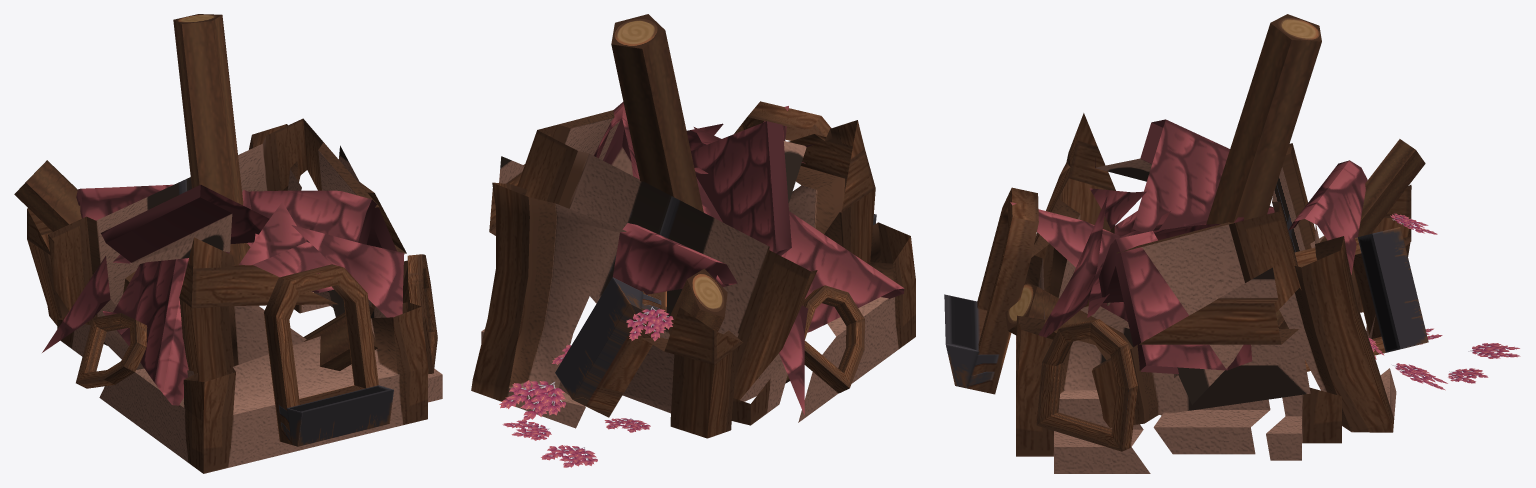
The model's file is HousePile.fbx.
3 views of the same model, side by side, from view 1: azimuth 30°, elevation 25°; view 2: azimuth 150°, elevation 25°; view 3: azimuth 270°, elevation 25° (orthographic). The views are drawn at different scales.
Visible parts, largest first — view 1: Pile; view 2: Pile; view 3: Pile.
Boxes of the visible parts, x1,y1,x2,y2 form: Pile: (14, 14, 442, 473); Pile: (471, 14, 915, 467); Pile: (944, 14, 1520, 473).
Size of the model in its own units: 24.68 by 27.12 by 34.95.
